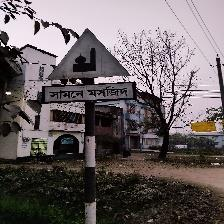Mosque in front: (40, 27, 138, 106)
